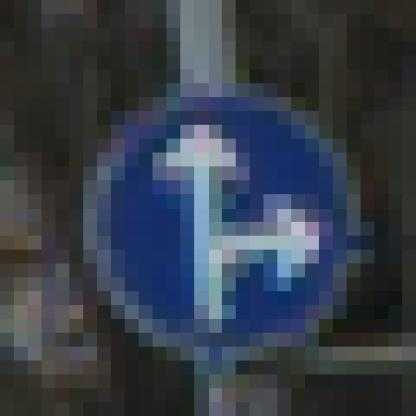Straight or Right: (70, 70, 348, 348)
